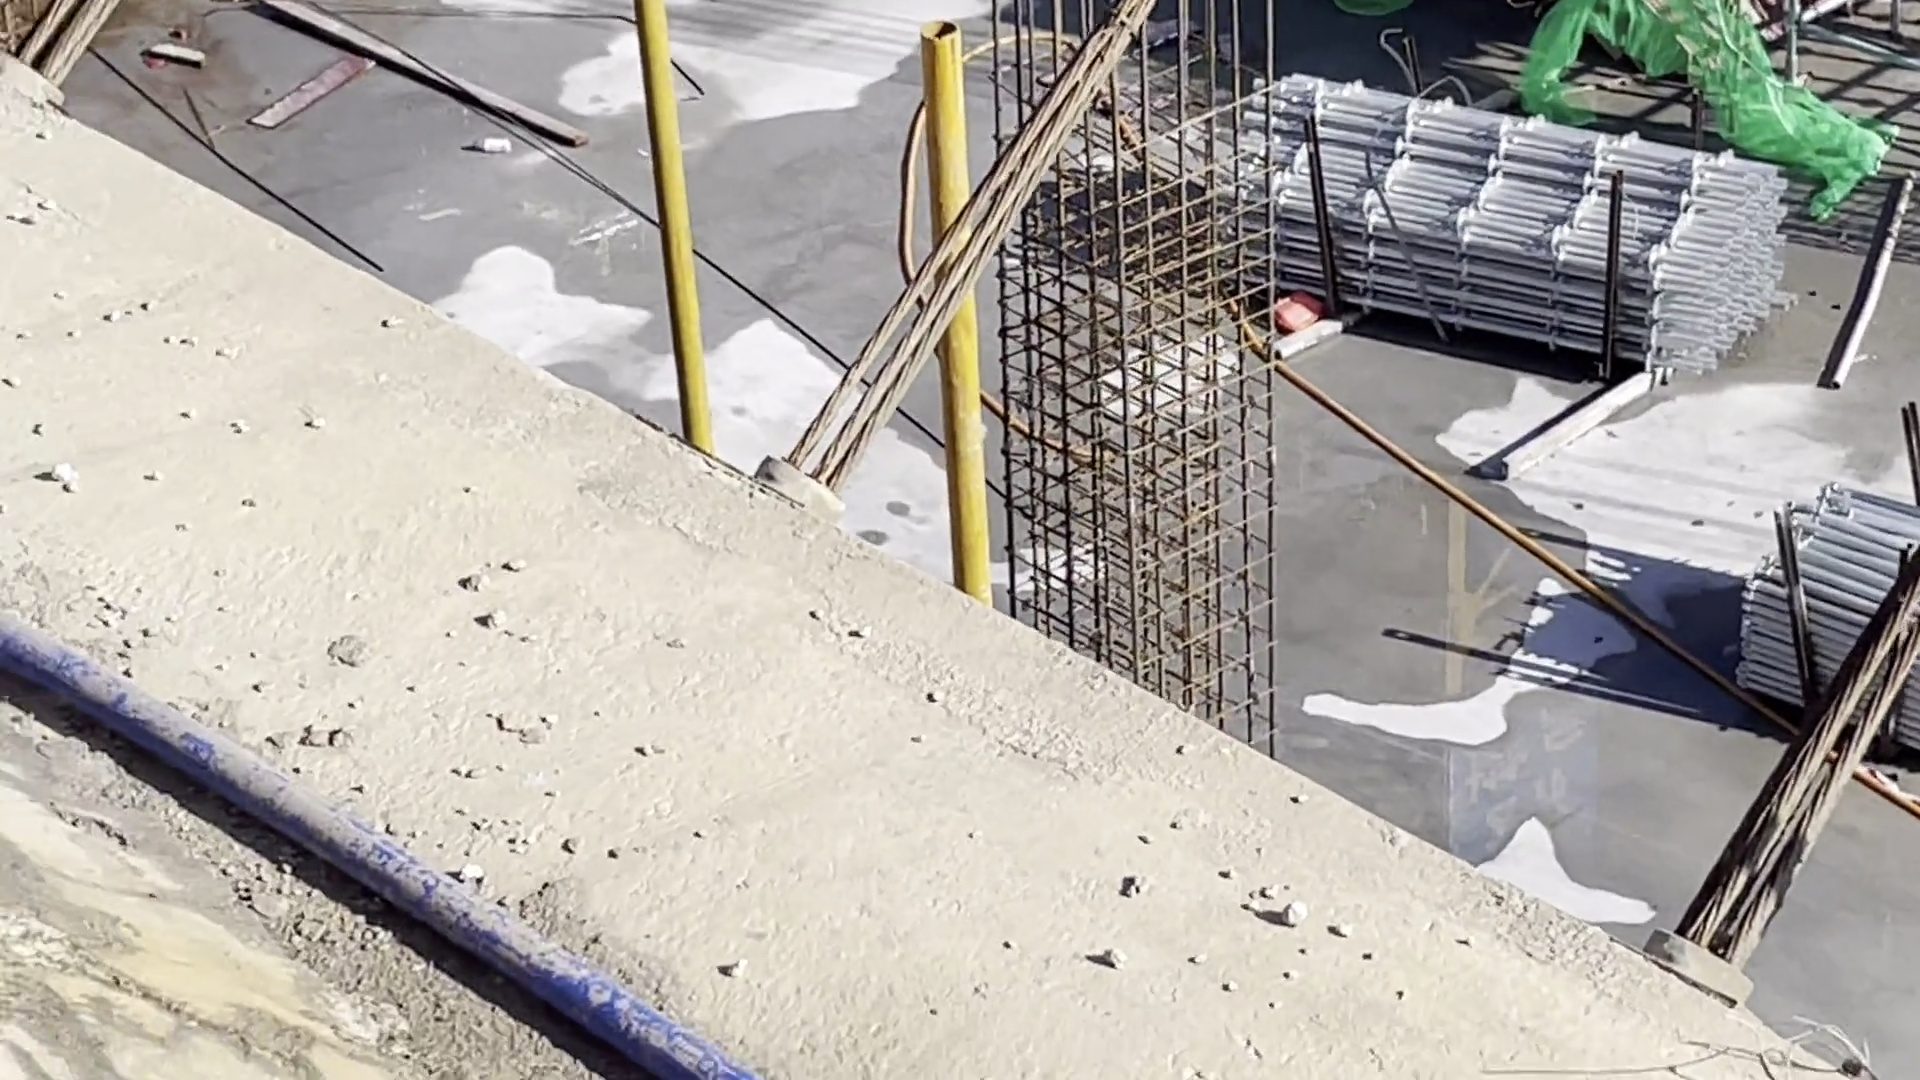scaffold: (1203, 74, 1800, 389), (1739, 477, 1920, 757)
